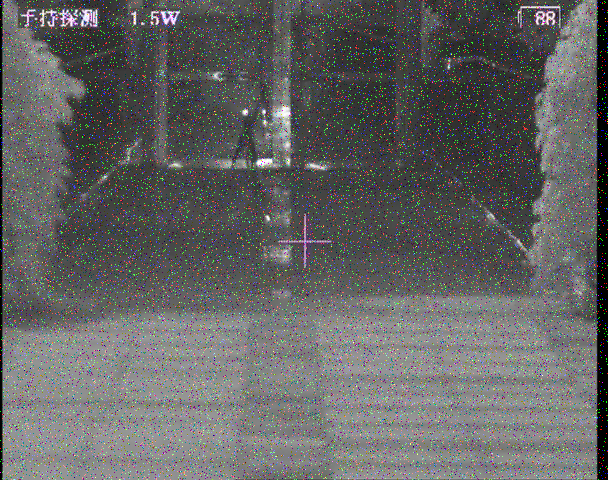my: (241, 108, 250, 116)
